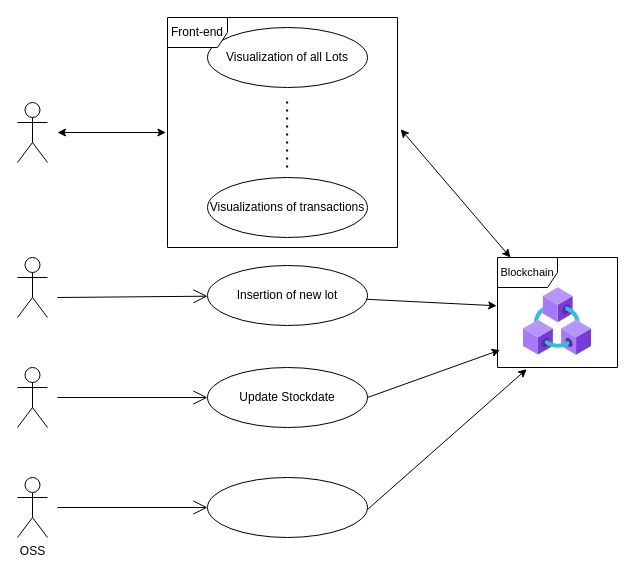
The diagram is 635 pixels wide and 576 high, and some of its shapes have lost their labels. The shapes that lost their labels are listed below. From the top down, each one's centre as x and y in pixels, then its label:
At (32,132): "User".
At (32,287): "DCS".
At (32,397): "SMS".
At (287,507): "Insertion of new transaction".
